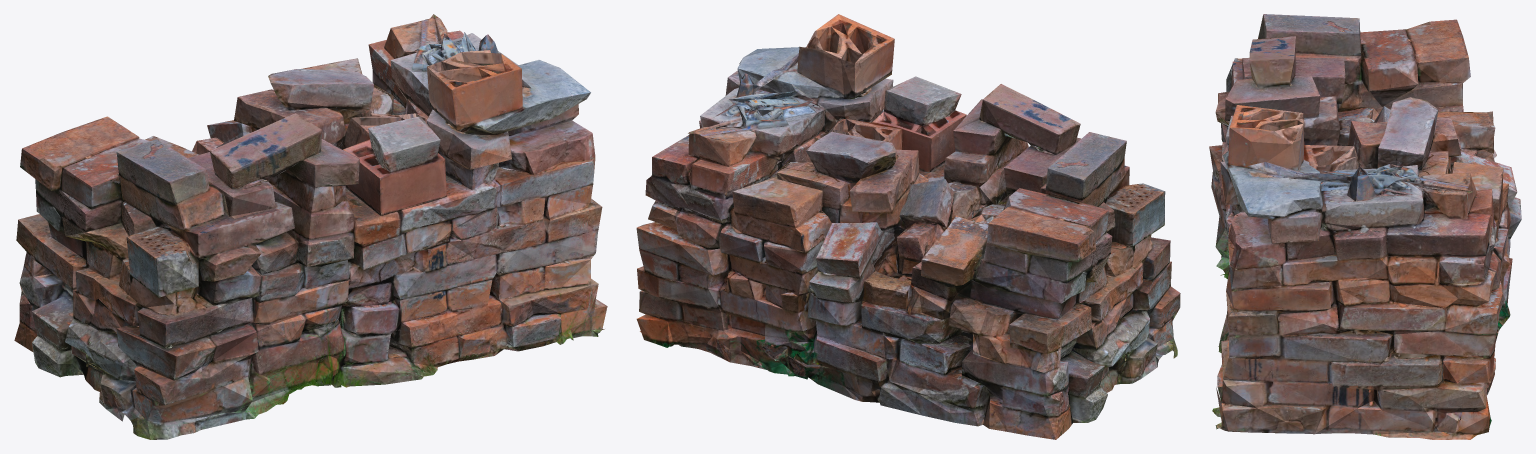
Rendered from Stack of Bricks.obj.
The picture shows the model from 3 angles, left to right: view 1: azimuth 30°, elevation 25°; view 2: azimuth 150°, elevation 25°; view 3: azimuth 270°, elevation 25°; orthographic projection. The views are drawn at different scales.
Parts seen in each view (by area): view 1: Stack_of_Bricks; view 2: Stack_of_Bricks; view 3: Stack_of_Bricks.
Part boxes in pixels (x1=…): Stack_of_Bricks: x1=14, y1=14, x2=607, y2=439; Stack_of_Bricks: x1=636, y1=14, x2=1180, y2=439; Stack_of_Bricks: x1=1209, y1=14, x2=1521, y2=439.
Size of the model in its own units: 3.41 by 1.91 by 2.01.
